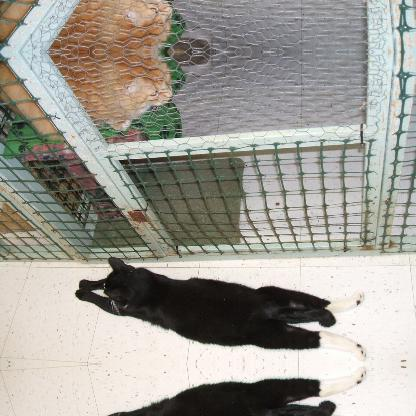Cat: (74, 256, 366, 360), (74, 368, 367, 415)
